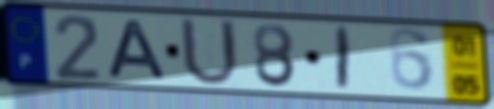2: (50, 12, 105, 83)
6: (387, 24, 436, 99)
8: (250, 21, 298, 90)
A: (105, 18, 170, 83)
I: (334, 24, 353, 93)
U: (177, 14, 243, 90)
